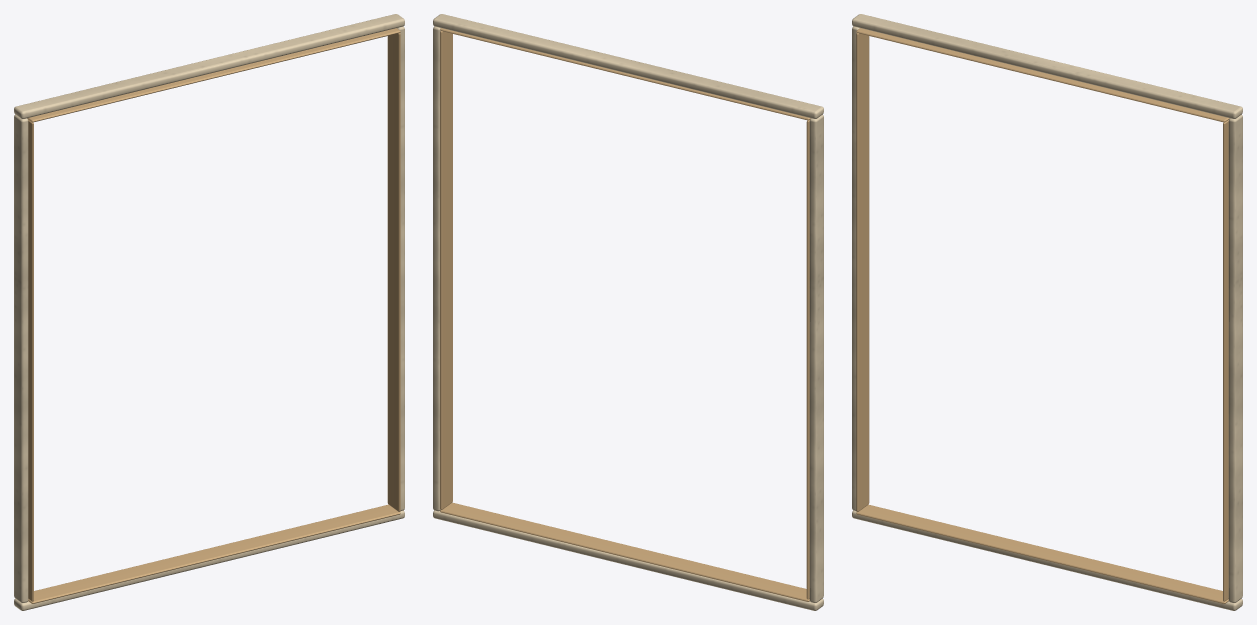
File: hush-rebate.glb
3 renders of one model, left to right at view 1: azimuth 30°, elevation 25°; view 2: azimuth 150°, elevation 25°; view 3: azimuth 330°, elevation 25°, orthographic.
Parts seen in each view (by area): view 1: Joinery.067; view 2: Joinery.067; view 3: Joinery.067.
Part boxes in pixels (x1,y1,x2,y2): Joinery.067: (14,14,404,610); Joinery.067: (433,14,823,610); Joinery.067: (852,14,1242,610).
Bounding box in the file's own units: 2.06 × 2.56 × 0.108.
2 materials, 1 textured.
